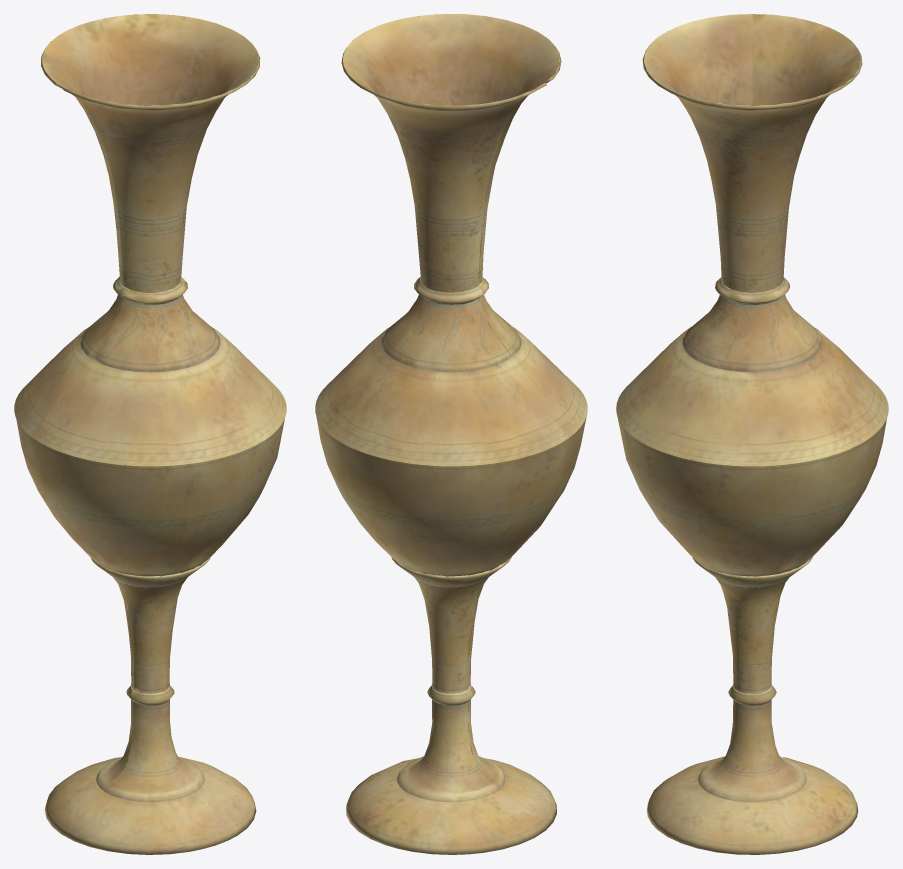
File: brass_vase_01.glb
3 renders of one model, left to right at view 1: azimuth 30°, elevation 25°; view 2: azimuth 150°, elevation 25°; view 3: azimuth 270°, elevation 25°, orthographic.
Visible parts, largest first — view 1: brass_vase_01; view 2: brass_vase_01; view 3: brass_vase_01.
Boxes of the visible parts, left/top/right/bottom form: brass_vase_01: left=14, top=14, right=286, bottom=854; brass_vase_01: left=315, top=14, right=587, bottom=854; brass_vase_01: left=616, top=14, right=888, bottom=854.
Size of the model in its own units: 0.228 by 0.6928 by 0.228.
Materials: 1 (1 with a texture image).
